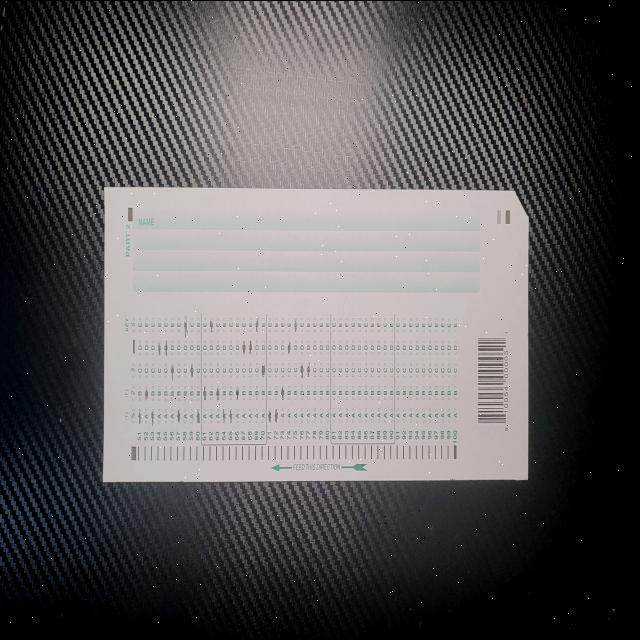scantron_back: (103, 185, 530, 482)
